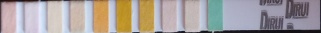color 1: (2, 4, 15, 32)
color 10: (209, 1, 220, 27)
color 2: (26, 4, 37, 33)
color 3: (48, 3, 61, 33)
color 4: (71, 3, 83, 33)
color 5: (95, 3, 107, 33)
color 6: (118, 2, 129, 30)
color 7: (140, 1, 151, 30)
color 8: (163, 1, 175, 29)
color 9: (186, 2, 198, 29)
